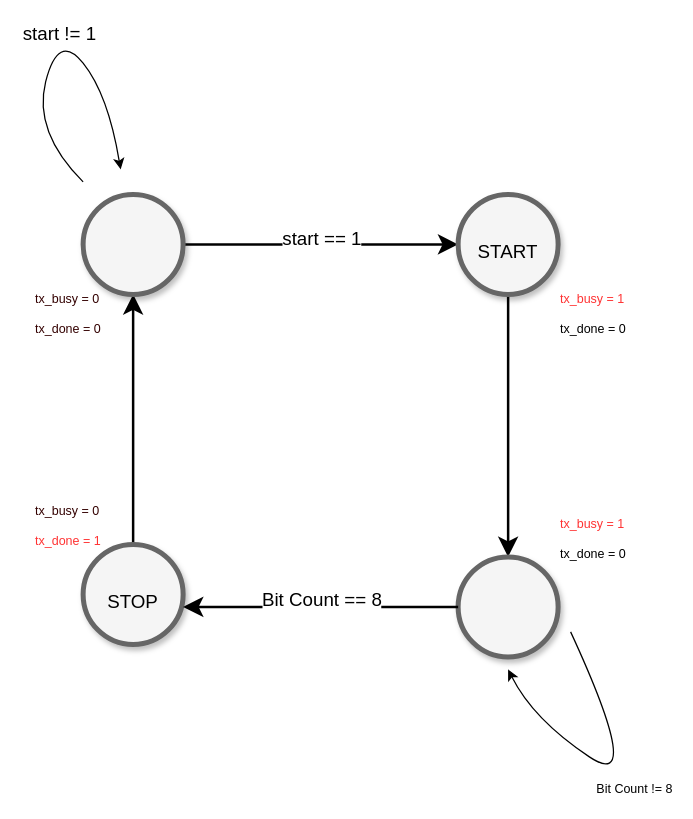
Some shapes in this 693 by 819 pixel diagram are drawn without their labels. Each missing label, with the centre of its shape:
"IDLE" belongs at point (133, 245).
"SEND" belongs at point (508, 608).
